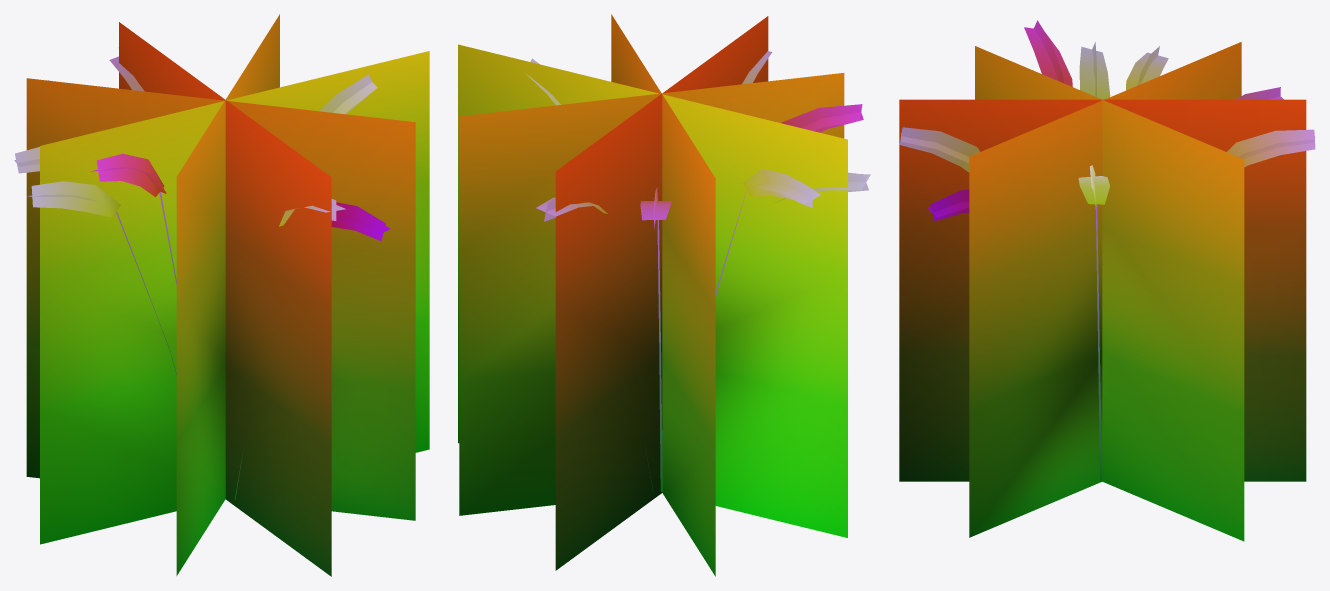
The model's file is Rice_AlmostRipe_B.fbx.
3 views of the same model, side by side, from view 1: azimuth 30°, elevation 25°; view 2: azimuth 150°, elevation 25°; view 3: azimuth 270°, elevation 25° (orthographic). The views are drawn at different scales.
Parts seen in each view (by area): view 1: Rice_AlmostRipe_B_LOD0; view 2: Rice_AlmostRipe_B_LOD0; view 3: Rice_AlmostRipe_B_LOD0.
Part boxes in pixels (bbox=[...]): Rice_AlmostRipe_B_LOD0: bbox=[14, 14, 429, 576]; Rice_AlmostRipe_B_LOD0: bbox=[458, 14, 870, 576]; Rice_AlmostRipe_B_LOD0: bbox=[899, 20, 1315, 541].
Size of what is drawn, in the model's own units: 1.11 by 1.06 by 1.04.
